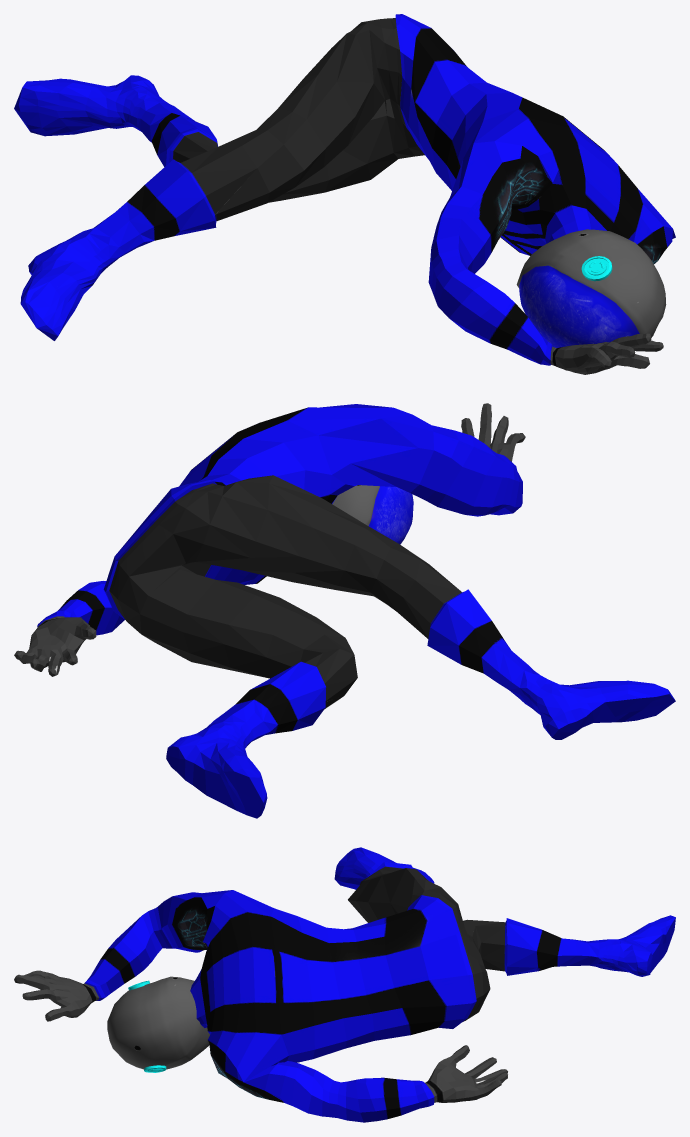
3 views of the same model, one above another, from view 1: azimuth 30°, elevation 25°; view 2: azimuth 150°, elevation 25°; view 3: azimuth 270°, elevation 25° (orthographic). The views are drawn at different scales.
Parts seen in each view (by area): view 1: Piernas1, Brazos2, Cabeza1; view 2: Piernas1, Brazos2, Cabeza1; view 3: Brazos2, Piernas1, Cabeza1.
Boxes of the visible parts, x1,y1,x2,y2 form: Piernas1: [14, 18, 424, 340]; Brazos2: [395, 14, 675, 374]; Cabeza1: [516, 229, 666, 347]; Piernas1: [109, 475, 675, 818]; Brazos2: [14, 403, 525, 676]; Cabeza1: [332, 485, 413, 544]; Brazos2: [14, 890, 507, 1122]; Piernas1: [334, 847, 675, 1021]; Cabeza1: [107, 976, 209, 1072].
Size of the model in its own units: 128 by 47.05 by 162.
